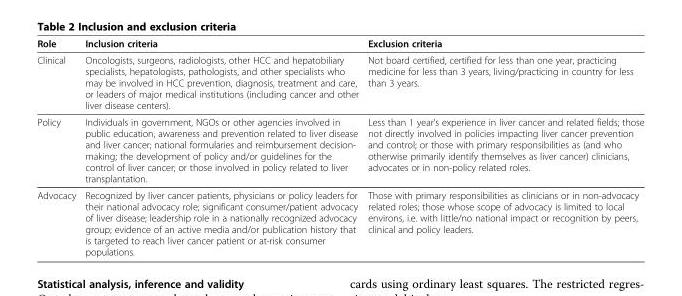table: (36, 37, 643, 257)
table column: (79, 37, 362, 257), (362, 37, 643, 257), (36, 37, 79, 257)
table column header: (36, 37, 643, 51)
table row: (36, 113, 643, 186), (36, 186, 643, 257), (36, 51, 643, 113), (36, 37, 643, 51)
